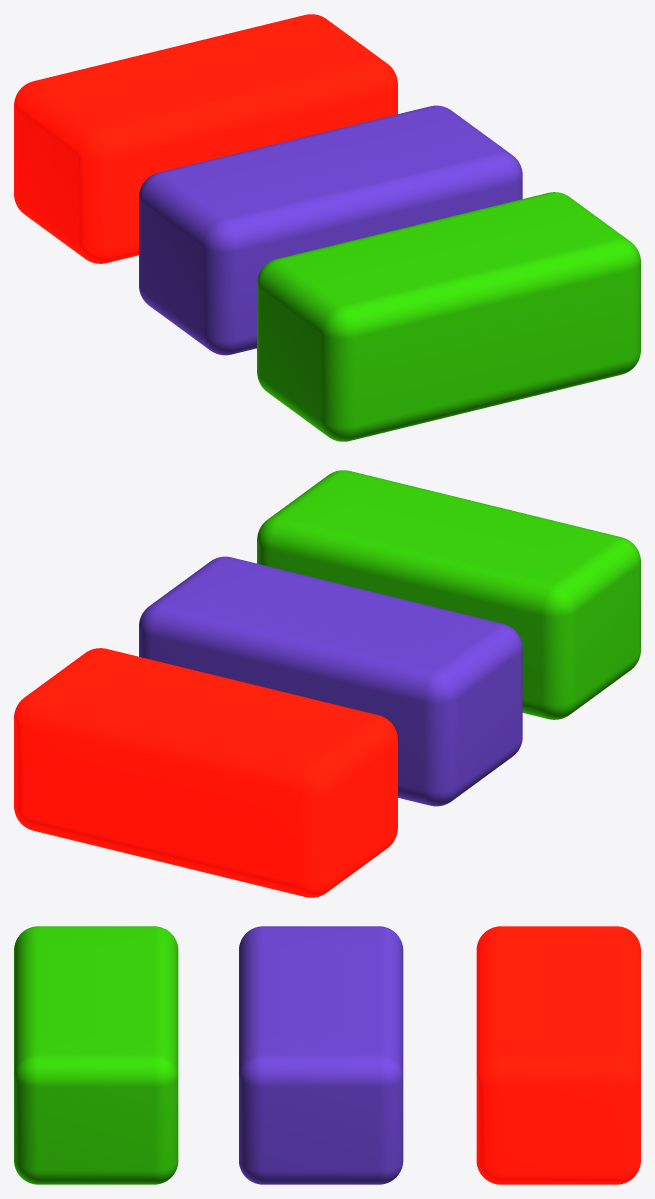
The picture shows the model from 3 angles, top to bottom: view 1: azimuth 30°, elevation 25°; view 2: azimuth 150°, elevation 25°; view 3: azimuth 270°, elevation 25°; orthographic projection. The views are drawn at different scales.
Visible parts, largest first — view 1: Cube.002, Cube.001, Cube; view 2: Cube.001, Cube, Cube.002; view 3: Cube, Cube.001, Cube.002.
Part boxes in pixels (box(x1,y1,x2,y2)): Cube.002: box(257, 192, 640, 441); Cube.001: box(14, 14, 397, 263); Cube: box(139, 105, 522, 355); Cube.001: box(14, 648, 397, 897); Cube: box(139, 556, 522, 806); Cube.002: box(257, 470, 640, 719); Cube: box(239, 926, 403, 1184); Cube.001: box(476, 926, 640, 1184); Cube.002: box(14, 926, 178, 1184).
Size of the model in its own units: 5.41 by 2.19 by 9.76.
